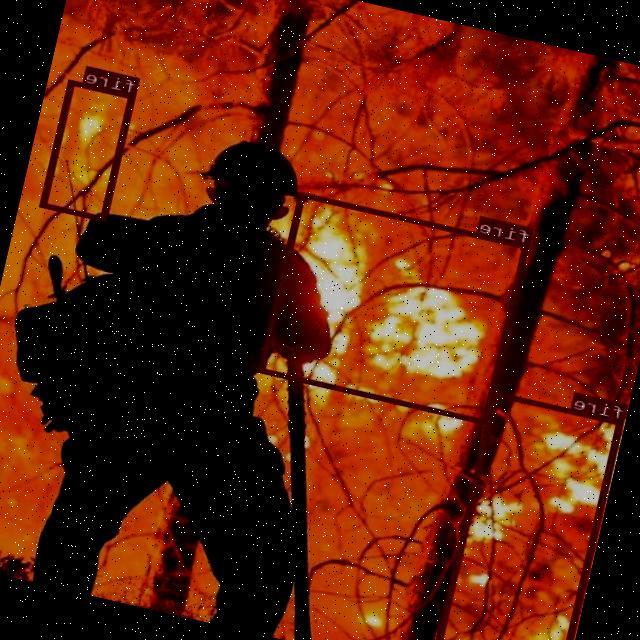fire: (259, 192, 530, 424), (436, 390, 625, 640), (40, 78, 137, 222)
